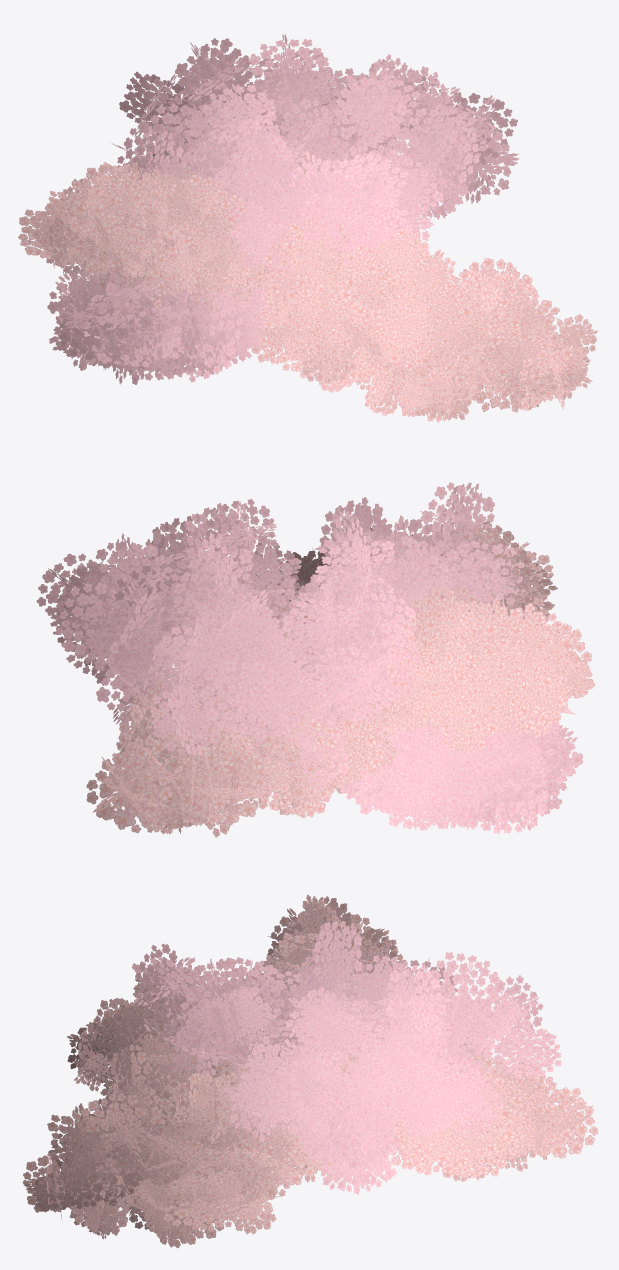
Rendered from SM_SukuraA_Sakura.fbx.
3 renders of one model, top to bottom at view 1: azimuth 30°, elevation 25°; view 2: azimuth 150°, elevation 25°; view 3: azimuth 270°, elevation 25°, orthographic. The views are drawn at different scales.
Parts seen in each view (by area): view 1: SM_SukuraA_Sakura; view 2: SM_SukuraA_Sakura; view 3: SM_SukuraA_Sakura.
Boxes of the visible parts, x1,y1,x2,y2 form: SM_SukuraA_Sakura: [18, 33, 598, 422]; SM_SukuraA_Sakura: [36, 482, 595, 837]; SM_SukuraA_Sakura: [22, 894, 598, 1248].
Size of the model in its own units: 19.02 by 11.37 by 20.47.
